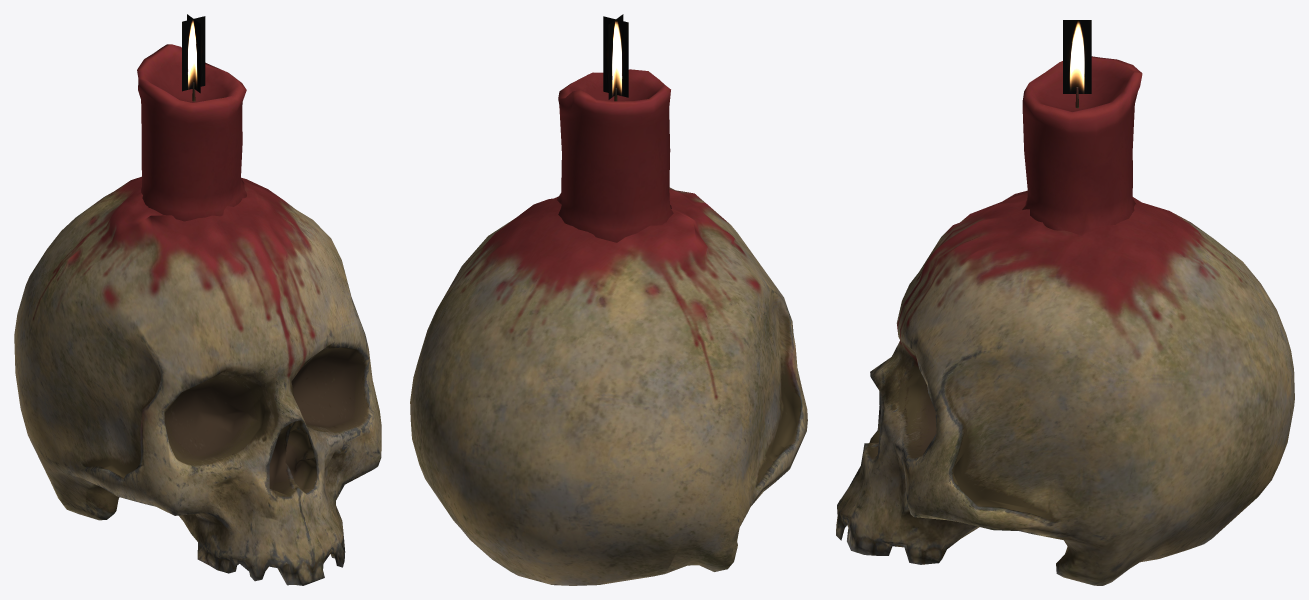
The model's file is skull.fbx.
The picture shows the model from 3 angles, left to right: view 1: azimuth 30°, elevation 25°; view 2: azimuth 150°, elevation 25°; view 3: azimuth 270°, elevation 25°; orthographic projection. The views are drawn at different scales.
Visible parts, largest first — view 1: Group1_skull candlestick_0; view 2: Group1_skull candlestick_0; view 3: Group1_skull candlestick_0.
Part boxes in pixels (<box>): Group1_skull candlestick_0: <box>14,14,381,585</box>; Group1_skull candlestick_0: <box>410,14,807,585</box>; Group1_skull candlestick_0: <box>836,20,1294,585</box>.
Bounding box in the file's own units: 0.764 × 1.24 × 1.01.
